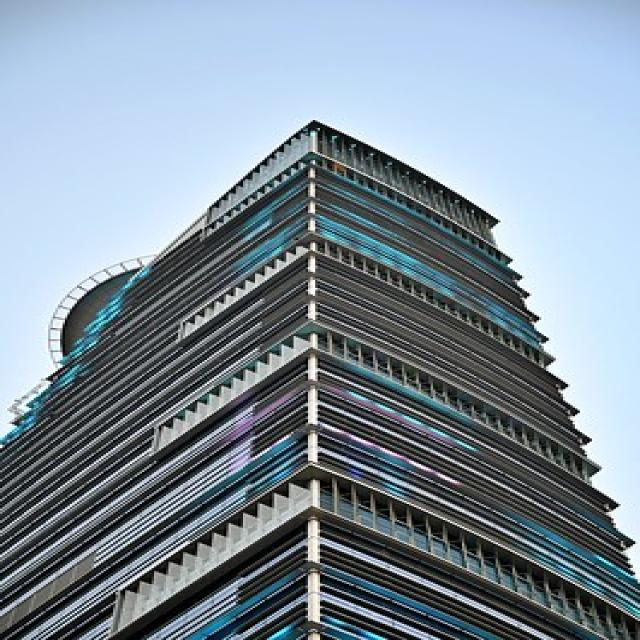building: (12, 113, 633, 640)
